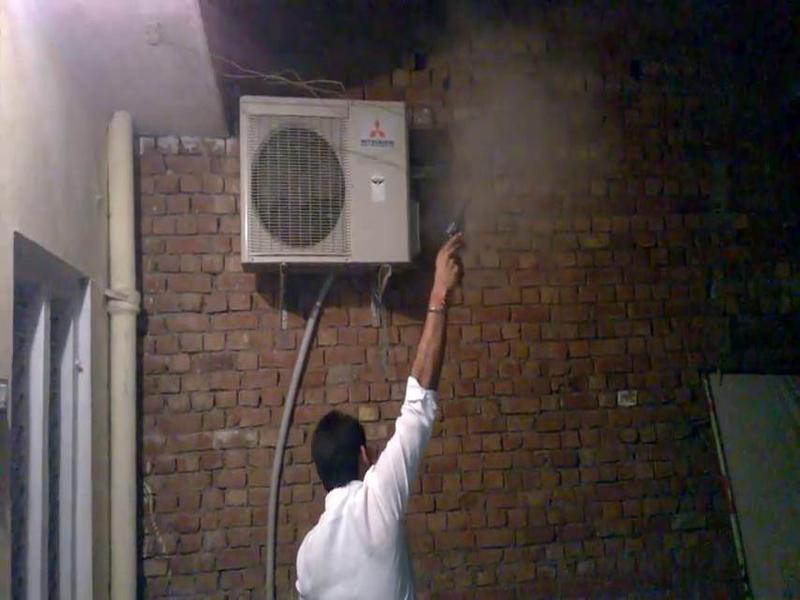Revolver: (438, 188, 479, 300)
